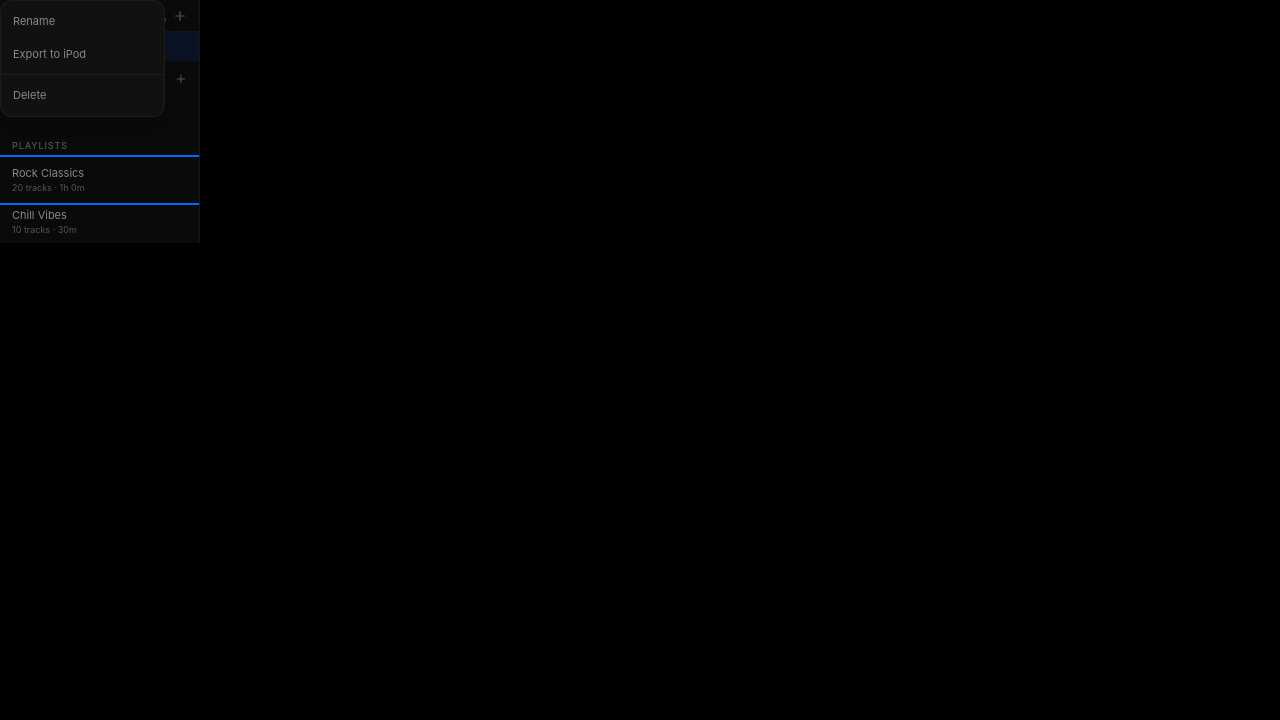
PlaylistSidebar › shows confirmation dialog when deleting a playlist via context menu
Click the button "Delete": (83, 95) [1, 79, 164, 112]
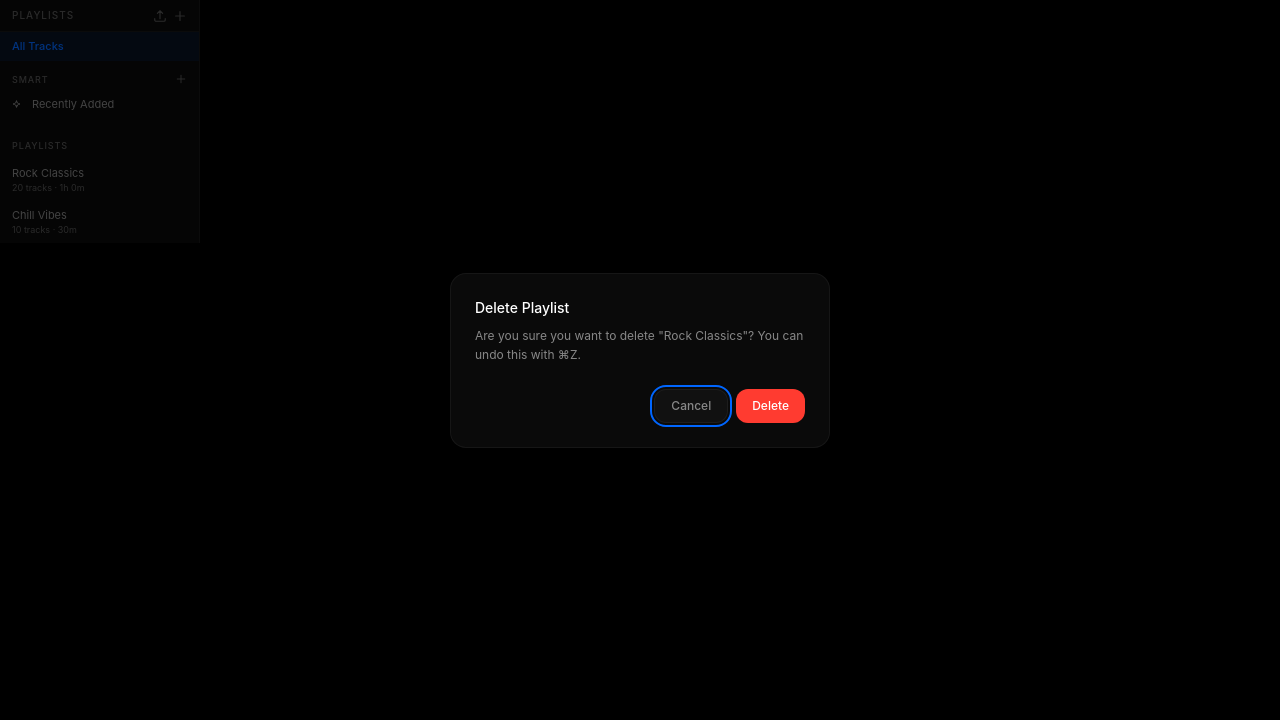
Check: the text "Delete Playlist" is shown, box [475, 298, 569, 316]
Check: the text "Are you sure you want to delete \"Rock Classics\"" is shown, box [475, 328, 803, 362]
